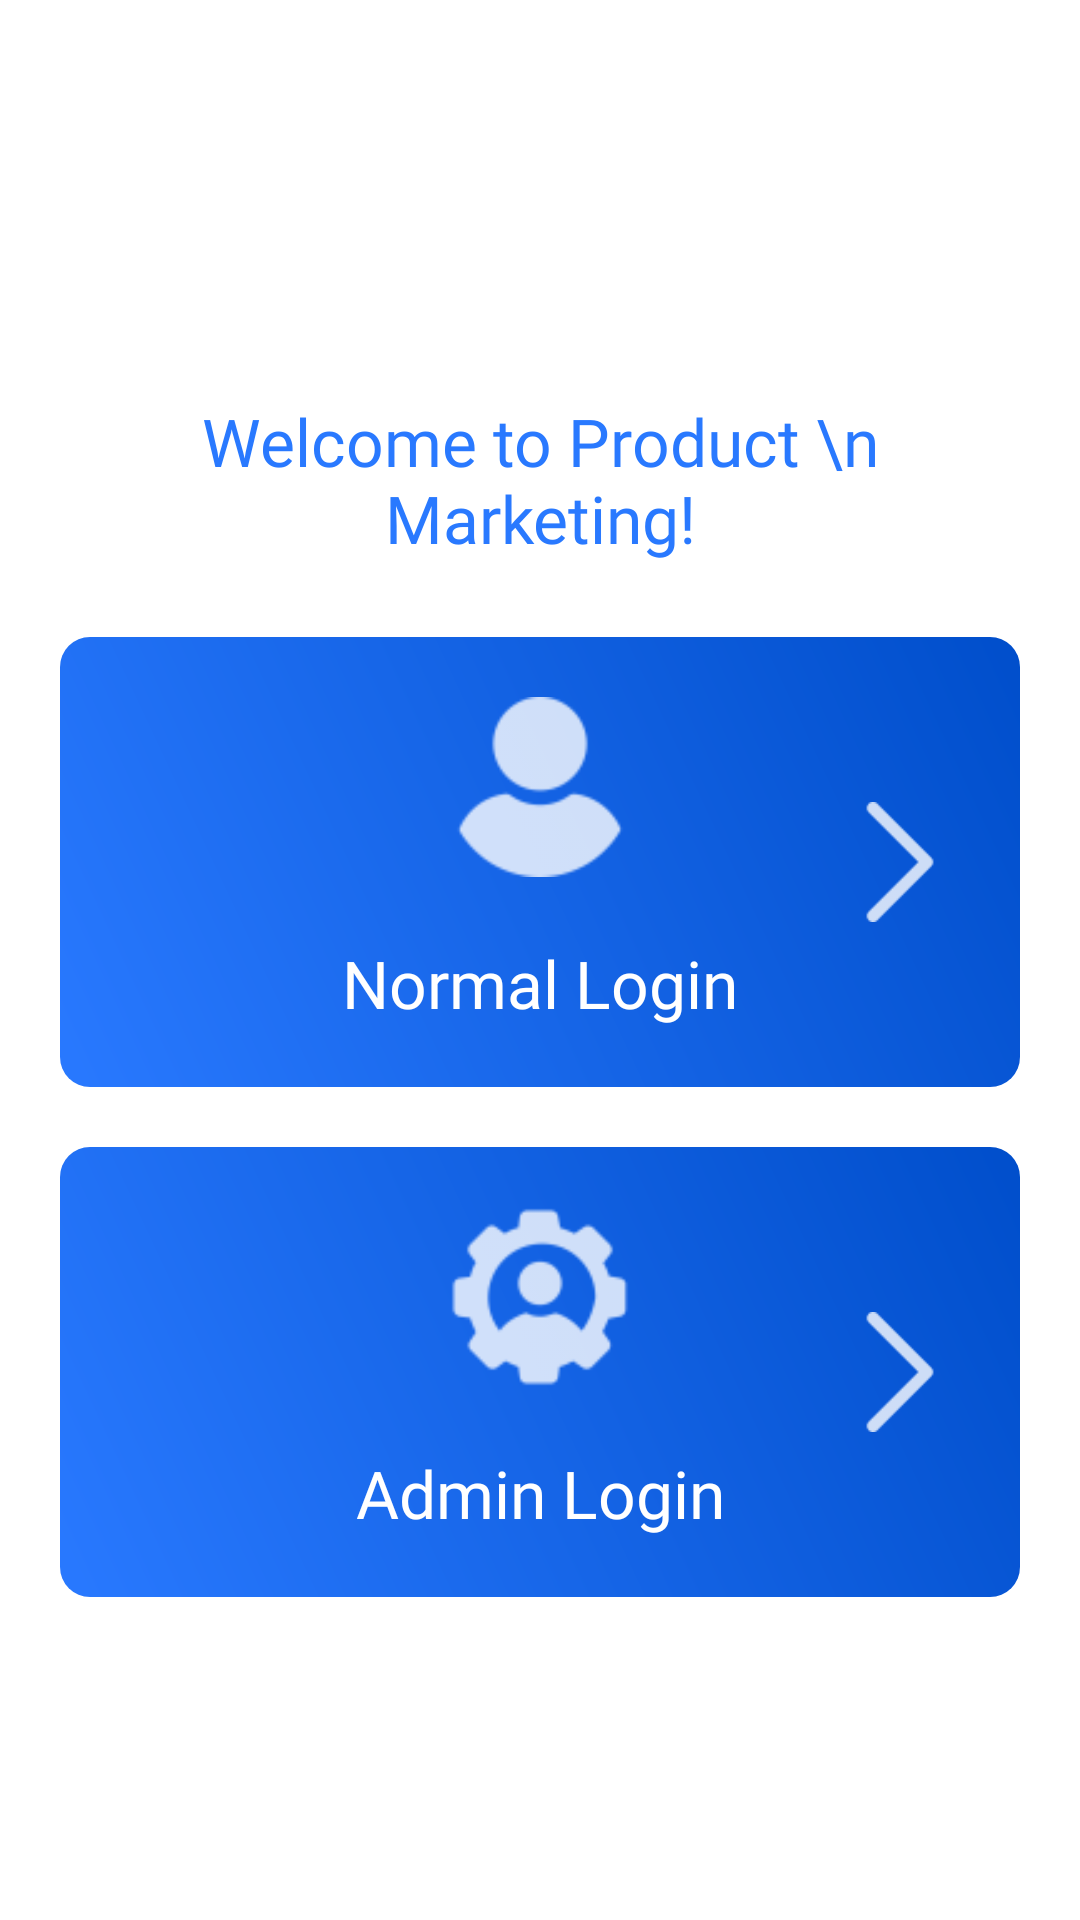

Where to tap for icons on this 1080px×1920px app screen, as (x,y):
admin user: (539,1297)
next: (900,862), (900,1372)
user: (539,787)
